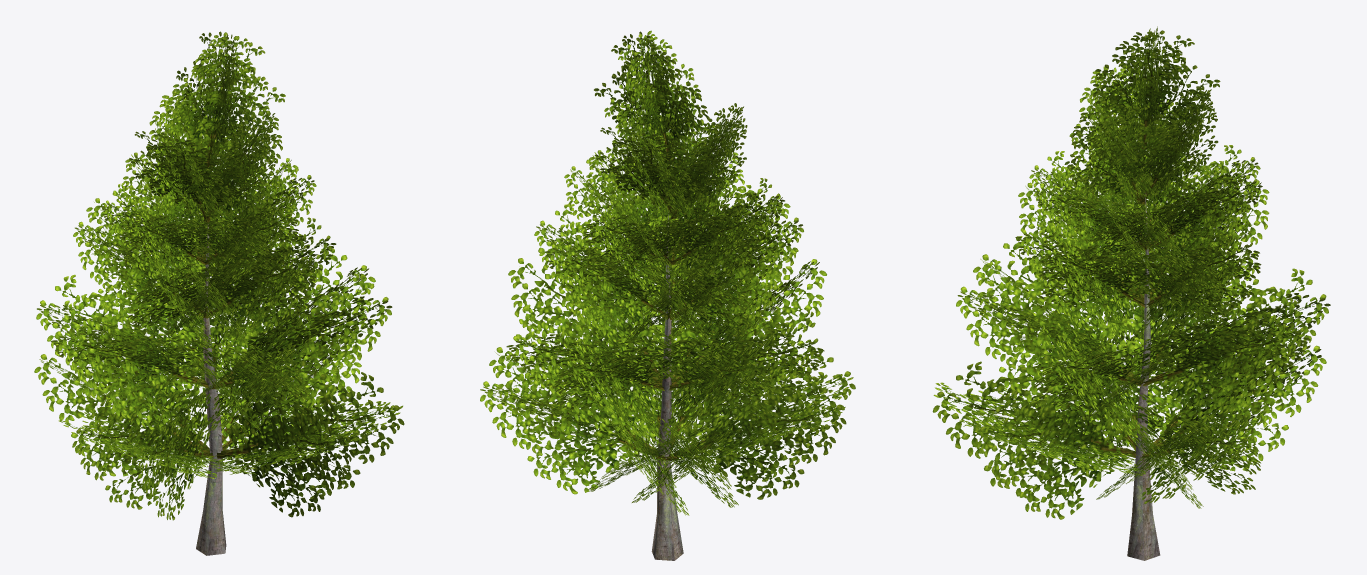
The model's file is tree_b.FBX.
The picture shows the model from 3 angles, left to right: view 1: azimuth 30°, elevation 25°; view 2: azimuth 150°, elevation 25°; view 3: azimuth 270°, elevation 25°; orthographic projection. The views are drawn at different scales.
Parts seen in each view (by area): view 1: tree_b; view 2: tree_b; view 3: tree_b.
Part boxes in pixels (x1=…): tree_b: x1=34, y1=31, x2=404, y2=555; tree_b: x1=480, y1=30, x2=855, y2=560; tree_b: x1=932, y1=26, x2=1330, y2=560.
Bounding box in the file's own units: 9.48 × 13.4 × 9.85.
2 materials, 2 textured.
